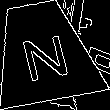N_N: (15, 23, 72, 81)
